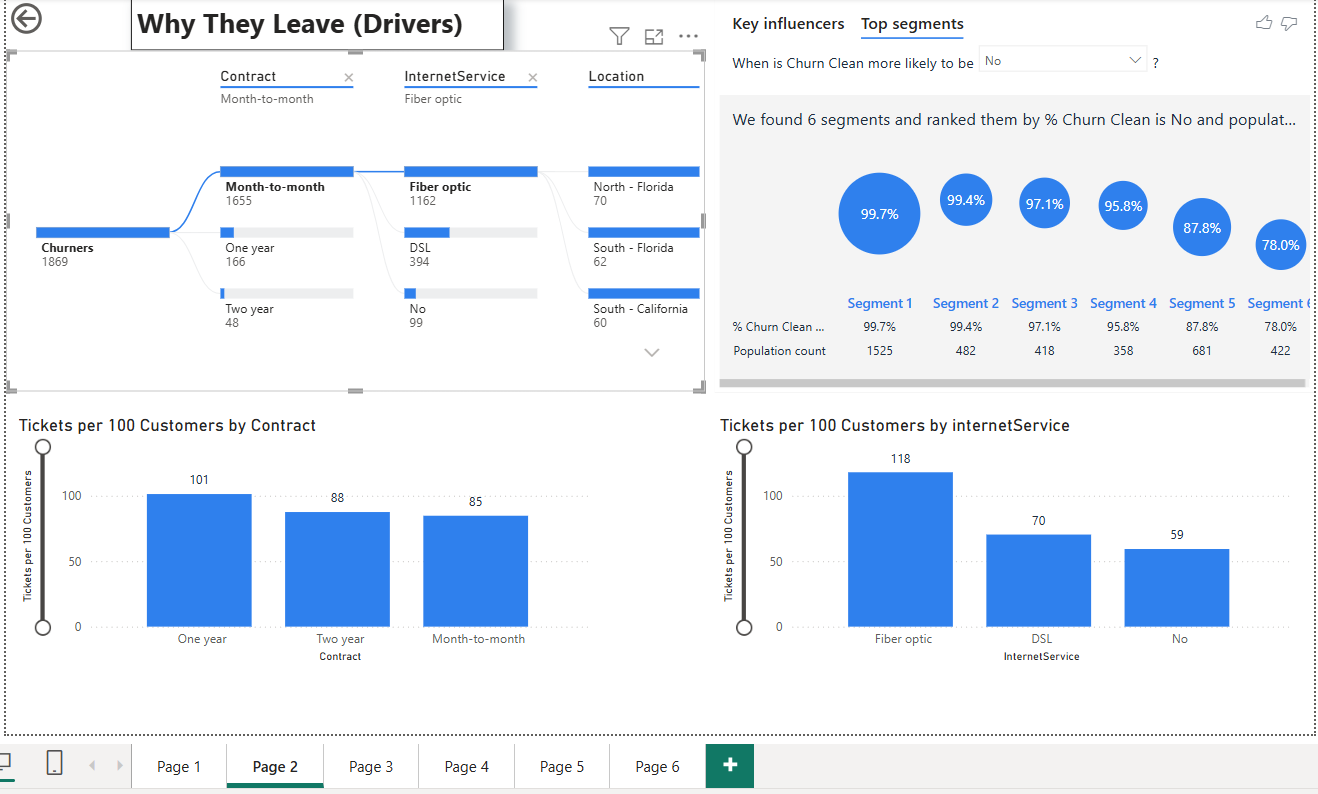

What the dashboard file says about the page in this screenshot:
{"tool":"powerbi","page":{"name":"Page 2","canvas":[1280,720],"ordinal":1},"visuals":[{"type":"textbox","box":[122.2,0,364.4,51.1],"z":0},{"type":"keyDriversVisual","fields":{"Target":["data.Churn Clean"],"ExplainBy":["data.Contract","data.InternetService","Sum(data.MonthlyCharges)","Sum(data.TotalCharges)","Sum(data.numAdminTickets)","Sum(data.numTechTickets)","data.PaperlessBilling","data.Tenure Group","Sum(data.SeniorCitizen)","data.PaymentMethod","data.Location"]},"box":[693.3,0,586.7,385.6],"z":1},{"type":"decompositionTreeVisual","fields":{"Analyze":["data.Churners"],"ExplainBy":["data.Contract","data.InternetService","data.Location","data.PaymentMethod","data.Tenure Groupcalc"]},"box":[0,51.1,683.3,334.4],"z":2},{"type":"clusteredColumnChart","title":"Tickets per 100 Customers by Contract","fields":{"Category":["data.Contract"],"Y":["data.Tickets per 100 Customers"]},"box":[7.8,406.7,567.8,247.8],"z":3},{"type":"clusteredColumnChart","title":"Tickets per 100 Customers by internetService","fields":{"Y":["data.Tickets per 100 Customers"],"Category":["data.InternetService"]},"box":[693.3,406.7,567.8,247.8],"z":4},{"type":"actionButton","box":[0,0,53.3,40],"z":6}]}

Visuals, with their boxes on the page's 1280x720 design canvas (x1, y1, x2, y2). These are canvas units, not pixel positions in the 1318x794 screenshot, which may show the page scaled, cropped or inside an application window:
textbox: <bbox>122, 0, 487, 51</bbox>
keyDriversVisual - data.Churn Clean x data.Contract: <bbox>693, 0, 1280, 386</bbox>
decompositionTreeVisual - data.Churners x data.Contract: <bbox>0, 51, 683, 386</bbox>
"Tickets per 100 Customers by Contract" clusteredColumnChart: <bbox>8, 407, 576, 654</bbox>
"Tickets per 100 Customers by internetService" clusteredColumnChart: <bbox>693, 407, 1261, 654</bbox>
actionButton: <bbox>0, 0, 53, 40</bbox>
